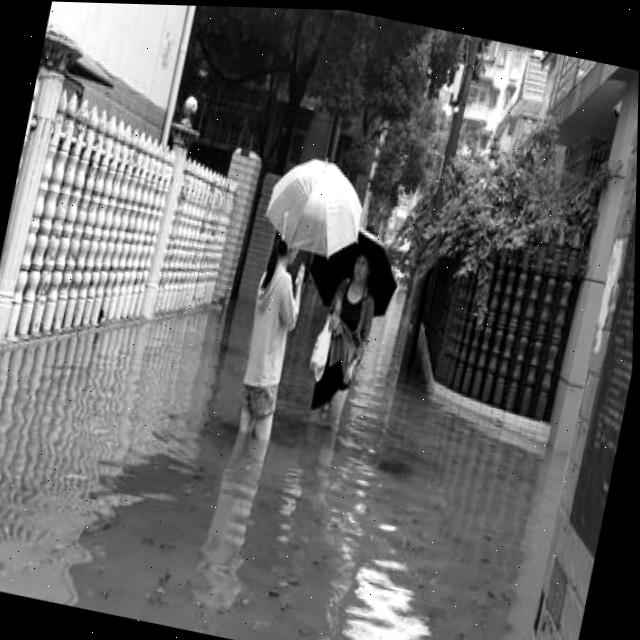civilian: (224, 208, 334, 458), (291, 240, 389, 458)
